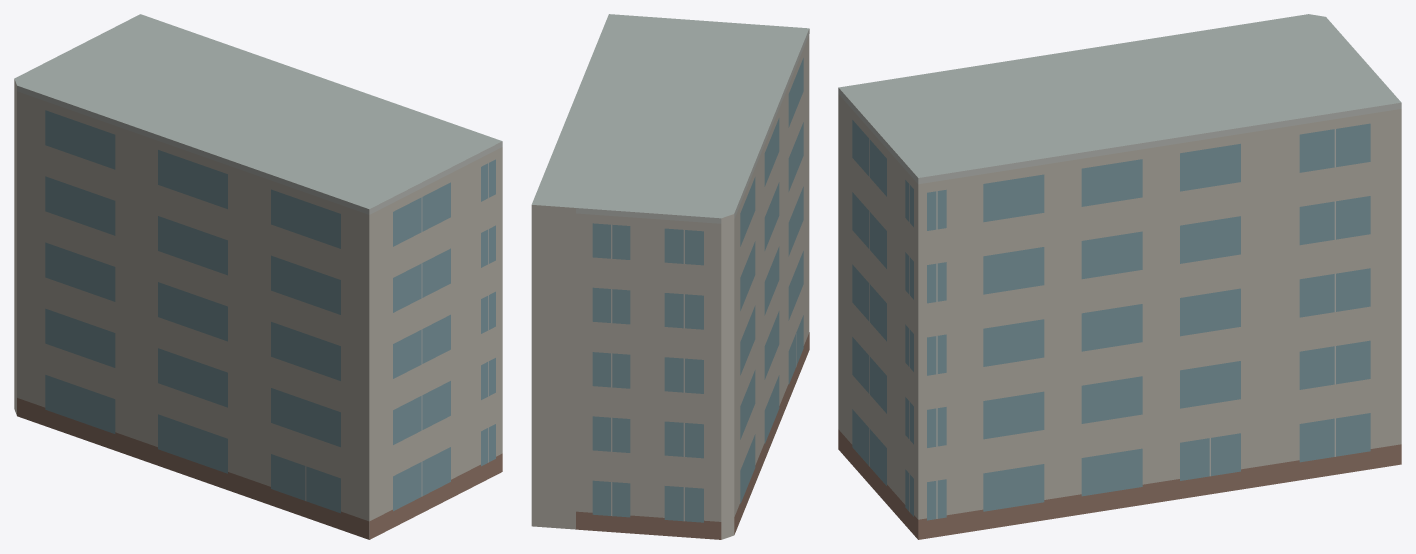
File: survey-upis-32843206.glb
The picture shows the model from 3 angles, left to right: view 1: azimuth 30°, elevation 25°; view 2: azimuth 150°, elevation 25°; view 3: azimuth 270°, elevation 25°; orthographic projection. The views are drawn at different scales.
Parts seen in each view (by area): view 1: survey-upis-32843206.tmp; view 2: survey-upis-32843206.tmp; view 3: survey-upis-32843206.tmp.
Boxes of the visible parts, box(x1,y1,x2,y2) form: survey-upis-32843206.tmp: box(14, 14, 502, 539); survey-upis-32843206.tmp: box(531, 14, 809, 539); survey-upis-32843206.tmp: box(838, 14, 1401, 539).
Size of the model in its own units: 13.82 by 14.2 by 20.04.
